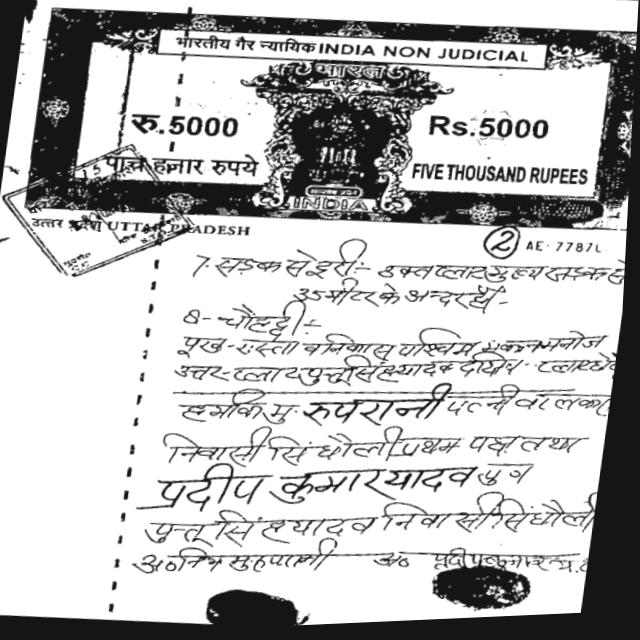afidivitstamp: (26, 0, 639, 253)
fingerprint: (426, 557, 537, 619), (202, 583, 309, 630)
govtstamp: (0, 132, 202, 290)
